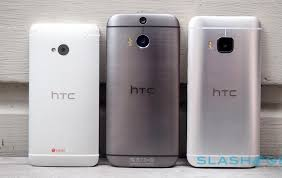htc: (101, 10, 181, 167), (184, 13, 264, 170), (24, 19, 102, 171)
